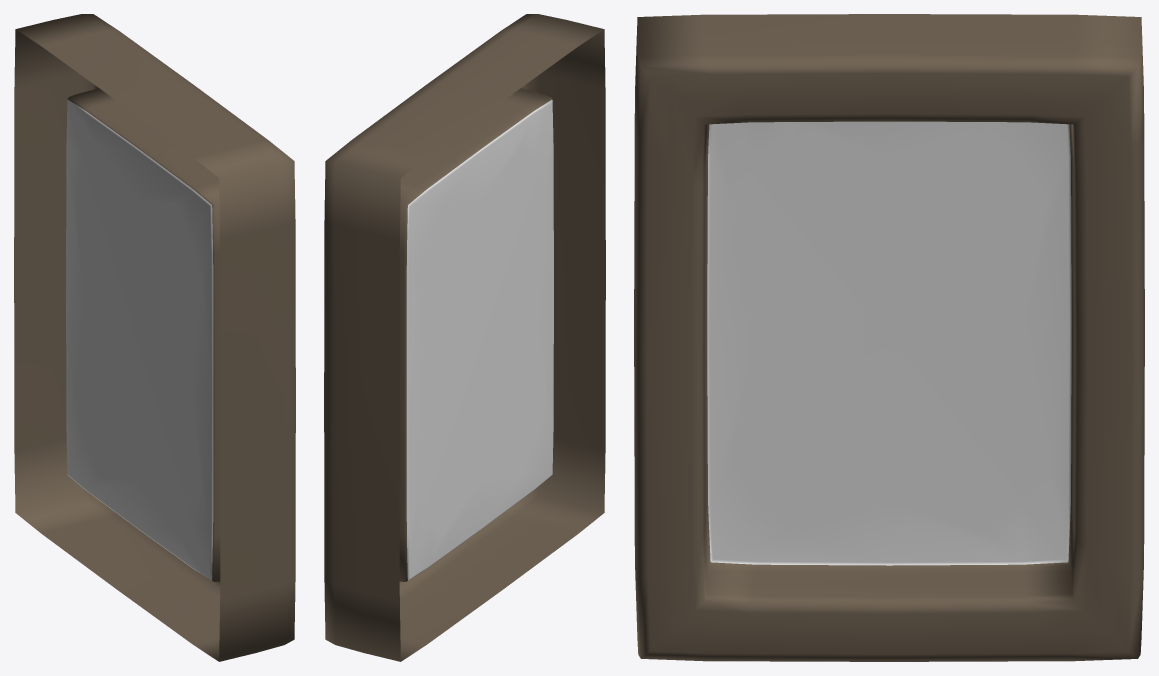
File: frame01.fbx
The picture shows the model from 3 angles, left to right: view 1: azimuth 30°, elevation 25°; view 2: azimuth 150°, elevation 25°; view 3: azimuth 270°, elevation 25°; orthographic projection. The views are drawn at different scales.
Parts seen in each view (by area): view 1: frame01; view 2: frame01; view 3: frame01.
Boxes of the visible parts, bbox=[...] form: frame01: bbox=[14, 14, 295, 661]; frame01: bbox=[324, 14, 605, 661]; frame01: bbox=[634, 14, 1144, 661].
Bounding box in the file's own units: 15.67 × 92.52 × 70.83.
